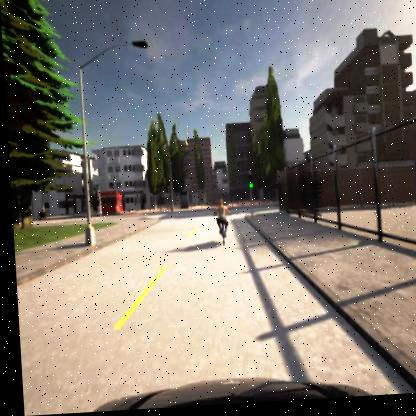bike: (209, 202, 229, 250)
